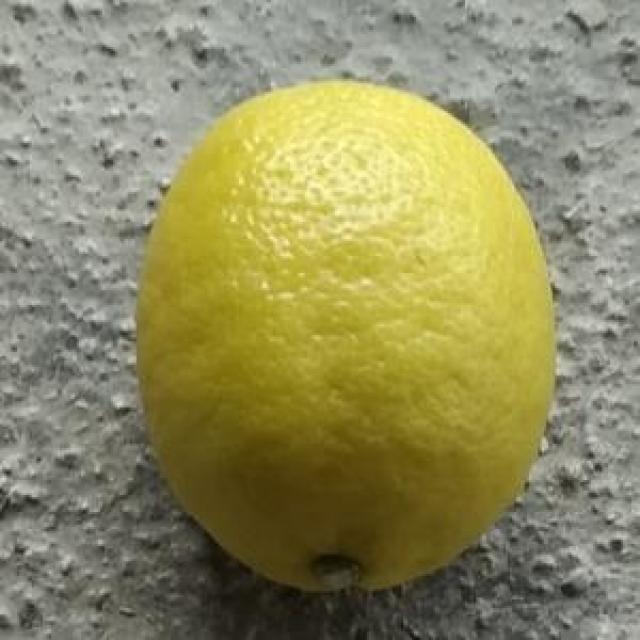lemon: (135, 80, 564, 608)
